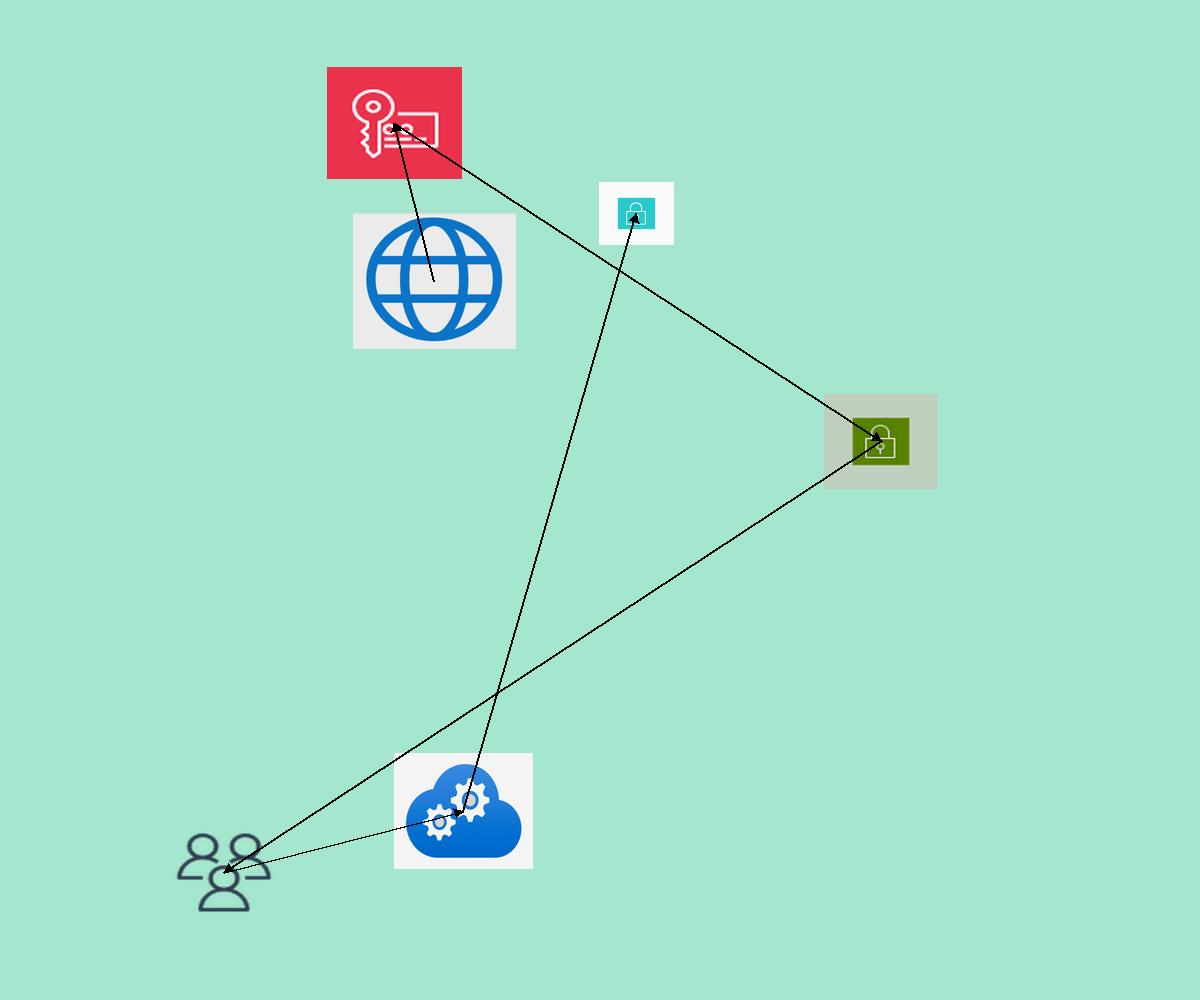AWS-Key-Management-Service: (327, 67, 462, 179)
AWS-Private-subnet: (599, 182, 674, 245)
AWS-Public-subnet: (824, 394, 938, 489)
AWS-Res_Users: (173, 830, 275, 915)
Azure_cloud_services: (394, 753, 533, 869)
Azure_http: (353, 213, 516, 349)
